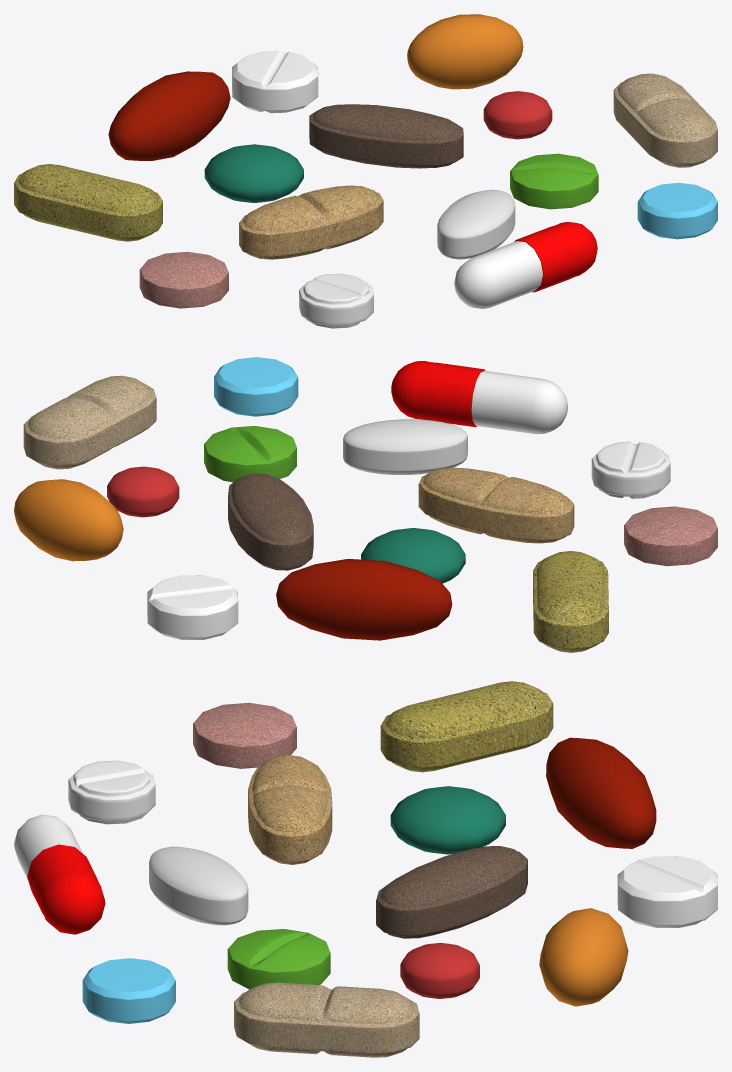
Rendered from Tablets.obj.
The picture shows the model from 3 angles, top to bottom: view 1: azimuth 30°, elevation 25°; view 2: azimuth 150°, elevation 25°; view 3: azimuth 270°, elevation 25°; orthographic projection. The views are drawn at different scales.
Visible parts, largest first — view 1: Tablets Tab_3, Tablets Tab_6, Tablets Tab_5, Tablets Tab_8, Tablets Tab_4, Tablets Tab_13, Tablets Tab_9, Tablets Tab_7, Tablets Tab_12 Lid_inner, Tablets Tab_15, Tab_1 Tablets, Tablets Tab_2 (+4 smaller); view 2: Tablets Tab_8, Tablets Tab_5, Tablets Tab_4, Tablets Tab_13, Tablets Tab_3, Tablets Tab_6, Tablets Tab_15, Tablets Tab_9, Tablets Tab_12 Lid_inner, Tab_1 Tablets, Tablets Lid_outer Tab_12, Tablets Tab_2 (+4 smaller); view 3: Tablets Tab_4, Tablets Tab_3, Tablets Tab_6, Tablets Tab_8, Tablets Tab_5, Tablets Tab_13, Tablets Tab_9, Tablets Tab_7, Tablets Tab_15, Tab_1 Tablets, Tablets Tab_10, Tablets Tab_2 (+4 smaller).
Boxes of the visible parts, bbox=[...] form: Tablets Tab_3: bbox=[14, 164, 162, 241]; Tablets Tab_6: bbox=[309, 104, 463, 168]; Tablets Tab_5: bbox=[239, 185, 383, 259]; Tablets Tab_8: bbox=[108, 71, 230, 160]; Tablets Tab_4: bbox=[613, 73, 717, 167]; Tablets Tab_13: bbox=[407, 14, 523, 89]; Tablets Tab_9: bbox=[232, 50, 318, 113]; Tablets Tab_7: bbox=[204, 144, 303, 202]; Tablets Tab_12 Lid_inner: bbox=[454, 241, 542, 308]; Tablets Tab_15: bbox=[437, 189, 515, 259]; Tab_1 Tablets: bbox=[139, 251, 228, 308]; Tablets Tab_2: bbox=[510, 153, 598, 209]; Tablets Tab_8: bbox=[276, 559, 452, 640]; Tablets Tab_5: bbox=[418, 467, 574, 543]; Tablets Tab_4: bbox=[23, 375, 156, 469]; Tablets Tab_13: bbox=[14, 479, 123, 561]; Tablets Tab_3: bbox=[533, 551, 608, 652]; Tablets Tab_6: bbox=[228, 473, 313, 570]; Tablets Tab_15: bbox=[343, 419, 467, 474]; Tablets Tab_9: bbox=[147, 575, 238, 639]; Tablets Tab_12 Lid_inner: bbox=[471, 370, 567, 434]; Tab_1 Tablets: bbox=[624, 506, 717, 566]; Tablets Lid_outer Tab_12: bbox=[391, 361, 485, 427]; Tablets Tab_2: bbox=[204, 426, 296, 482]; Tablets Tab_4: bbox=[234, 982, 419, 1057]; Tablets Tab_3: bbox=[380, 681, 553, 772]; Tablets Tab_6: bbox=[376, 846, 527, 938]; Tablets Tab_8: bbox=[546, 737, 656, 848]; Tablets Tab_5: bbox=[248, 755, 332, 864]; Tablets Tab_13: bbox=[539, 908, 628, 1006]; Tablets Tab_9: bbox=[617, 856, 717, 927]; Tablets Tab_7: bbox=[390, 786, 505, 854]; Tablets Tab_15: bbox=[149, 846, 248, 925]; Tab_1 Tablets: bbox=[193, 702, 296, 768]; Tablets Tab_10: bbox=[82, 958, 175, 1023]; Tablets Tab_2: bbox=[227, 929, 330, 989].
Size of the model in its own units: 7.88 by 0.8608 by 6.84.
17 materials, 6 textured.
